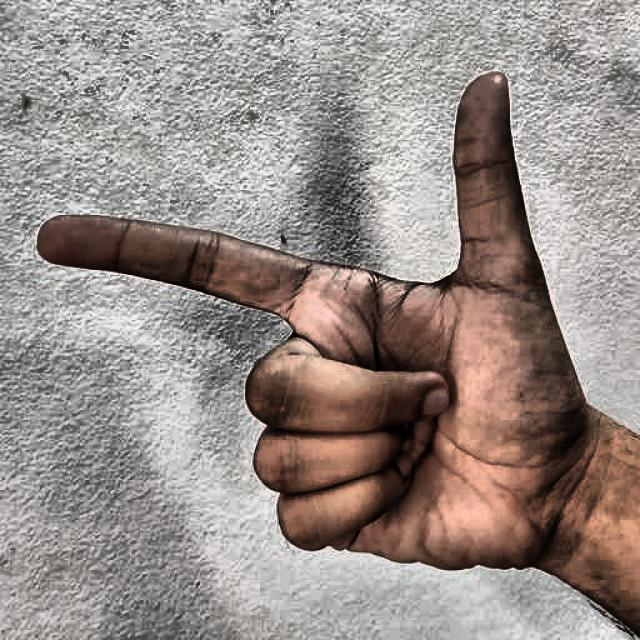Tha: (20, 54, 590, 617)
